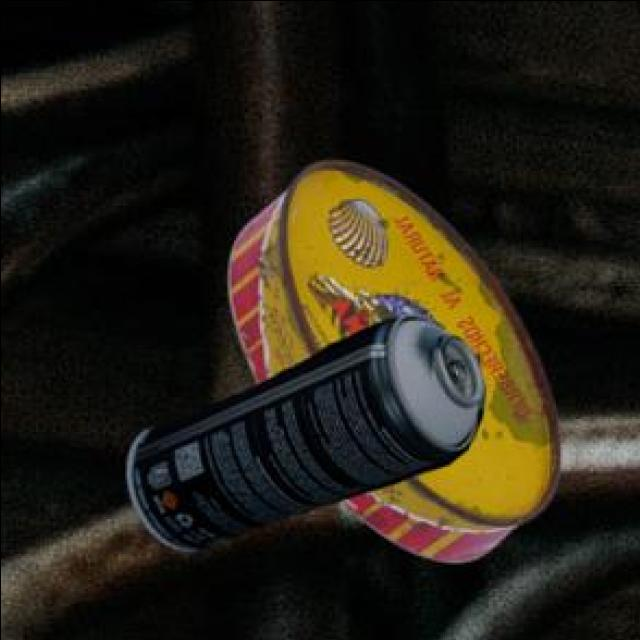logam: (230, 158, 563, 558), (130, 310, 489, 547)
